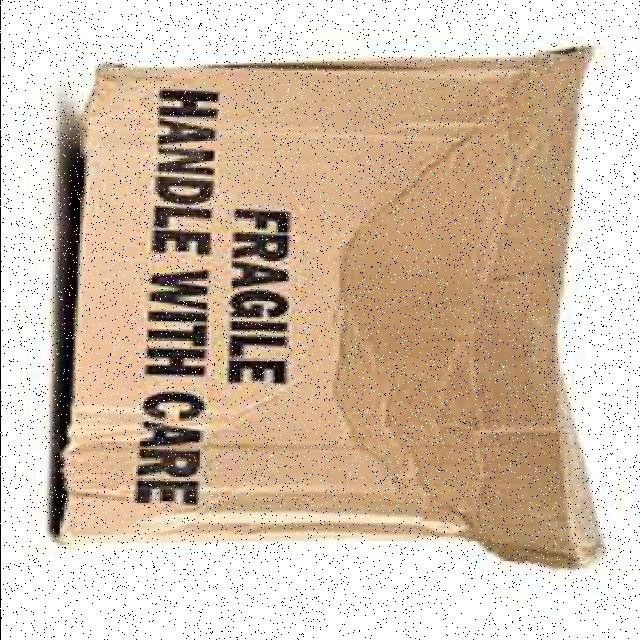defect: (48, 34, 604, 571)
